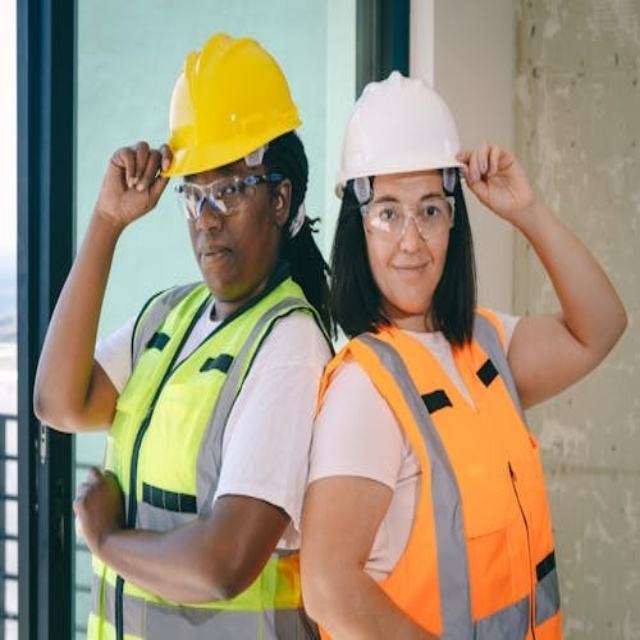Gafas: (173, 166, 287, 227), (362, 191, 454, 239)
Sin_guantes: (454, 138, 535, 217), (95, 142, 170, 227), (72, 464, 122, 554)
Sin_mascara: (379, 253, 433, 295), (191, 239, 236, 282)
